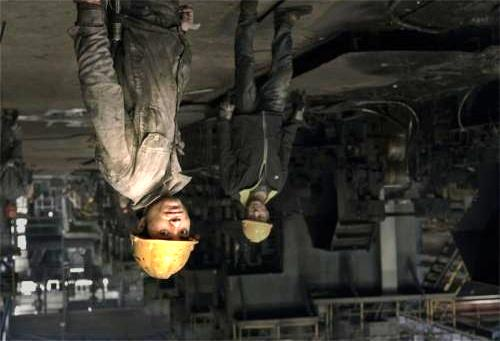helmet: (129, 197, 199, 279), (240, 199, 273, 243)
